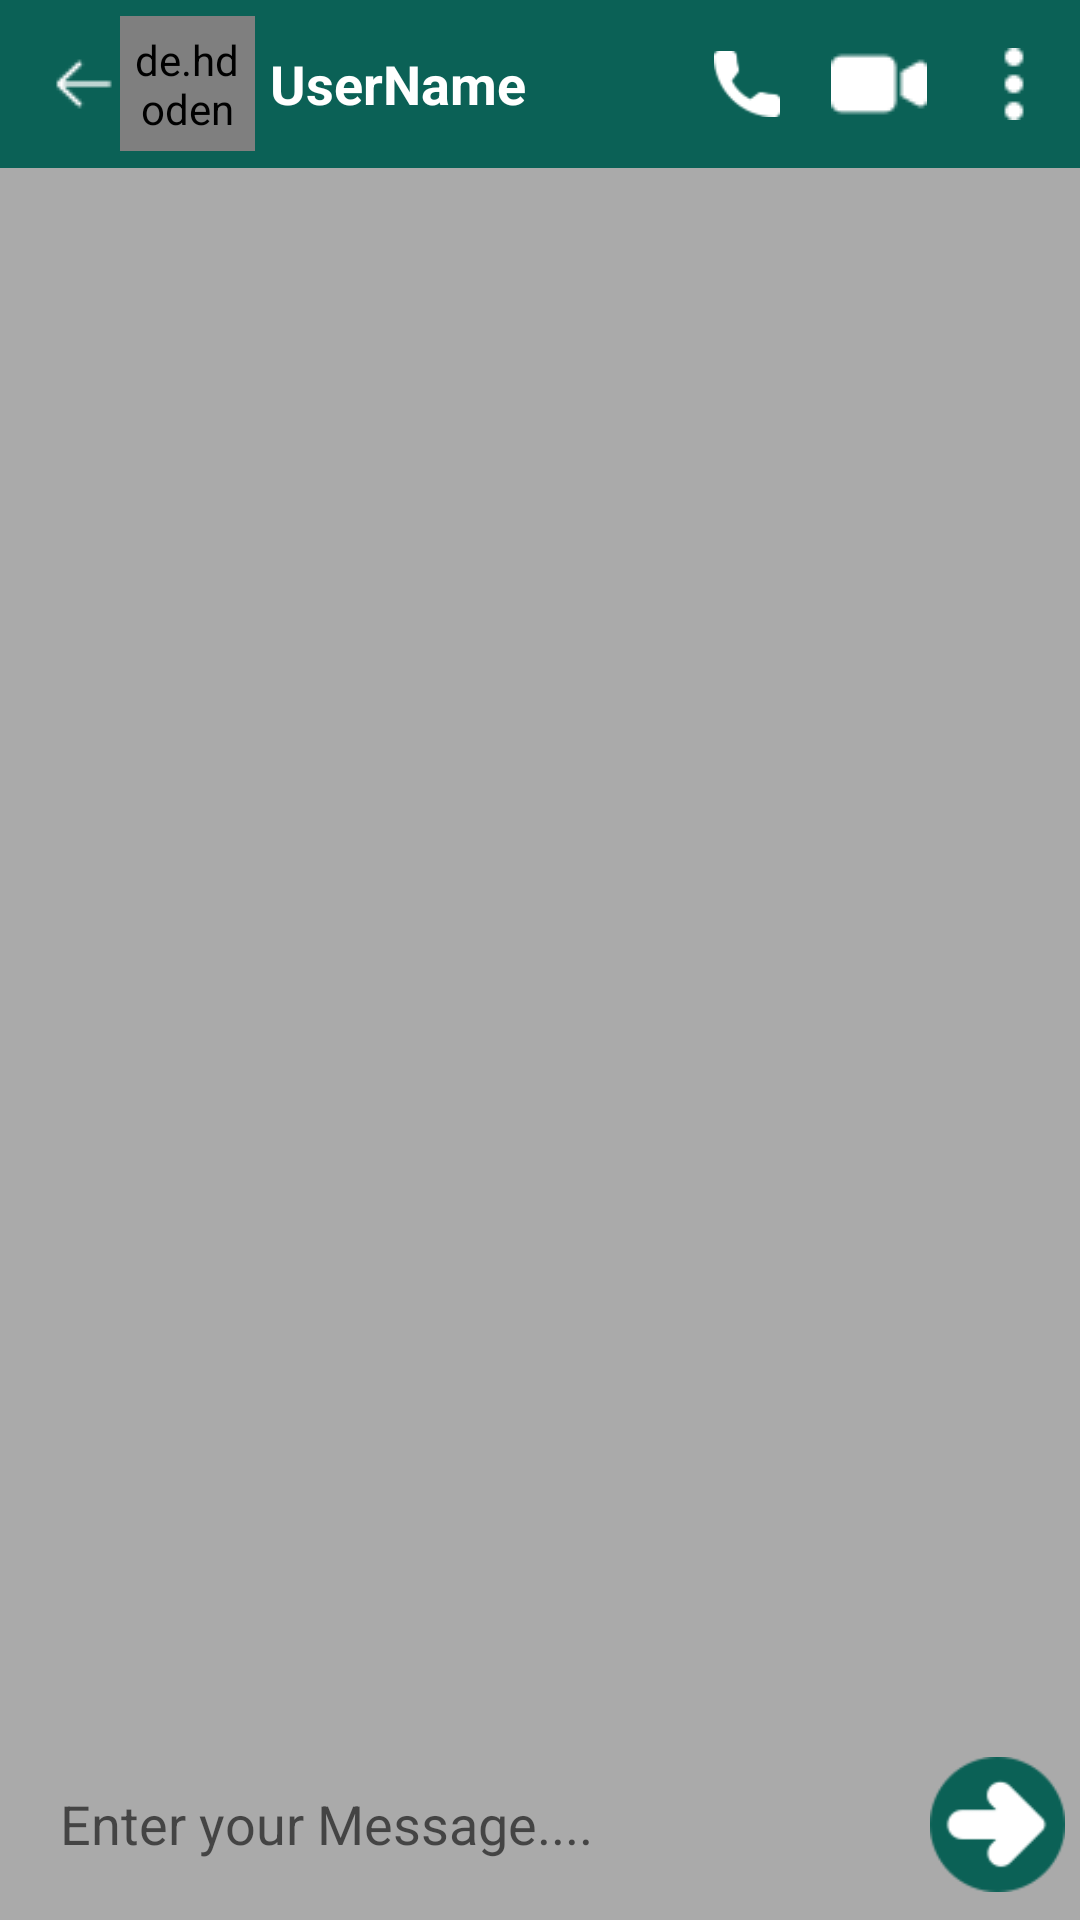

Point at icon controls on the screen. Image size 1080px x 1920px, points as [x,y].
back: [84,84]
call: [747,84]
menu: [1014,84]
send: [997,1824]
video: [879,84]
